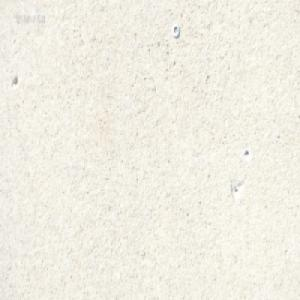Washer: (172, 23, 180, 38)
